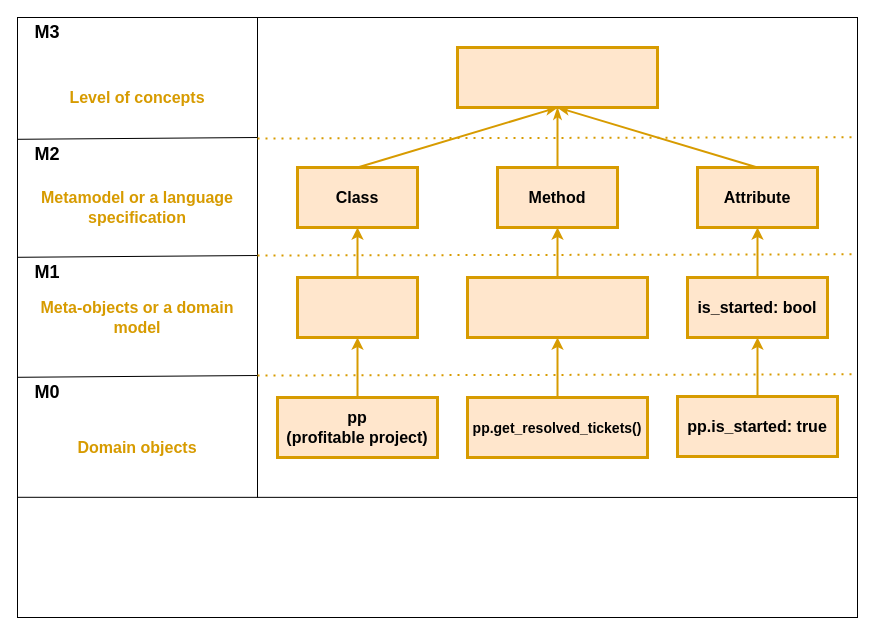
This 877x635 diagram has some shape labels left out. Each missing label, with the centre of its shape:
get_resolved_tickets(): the point at 557,307
Modeling element: the point at 557,77
Project: the point at 357,307
